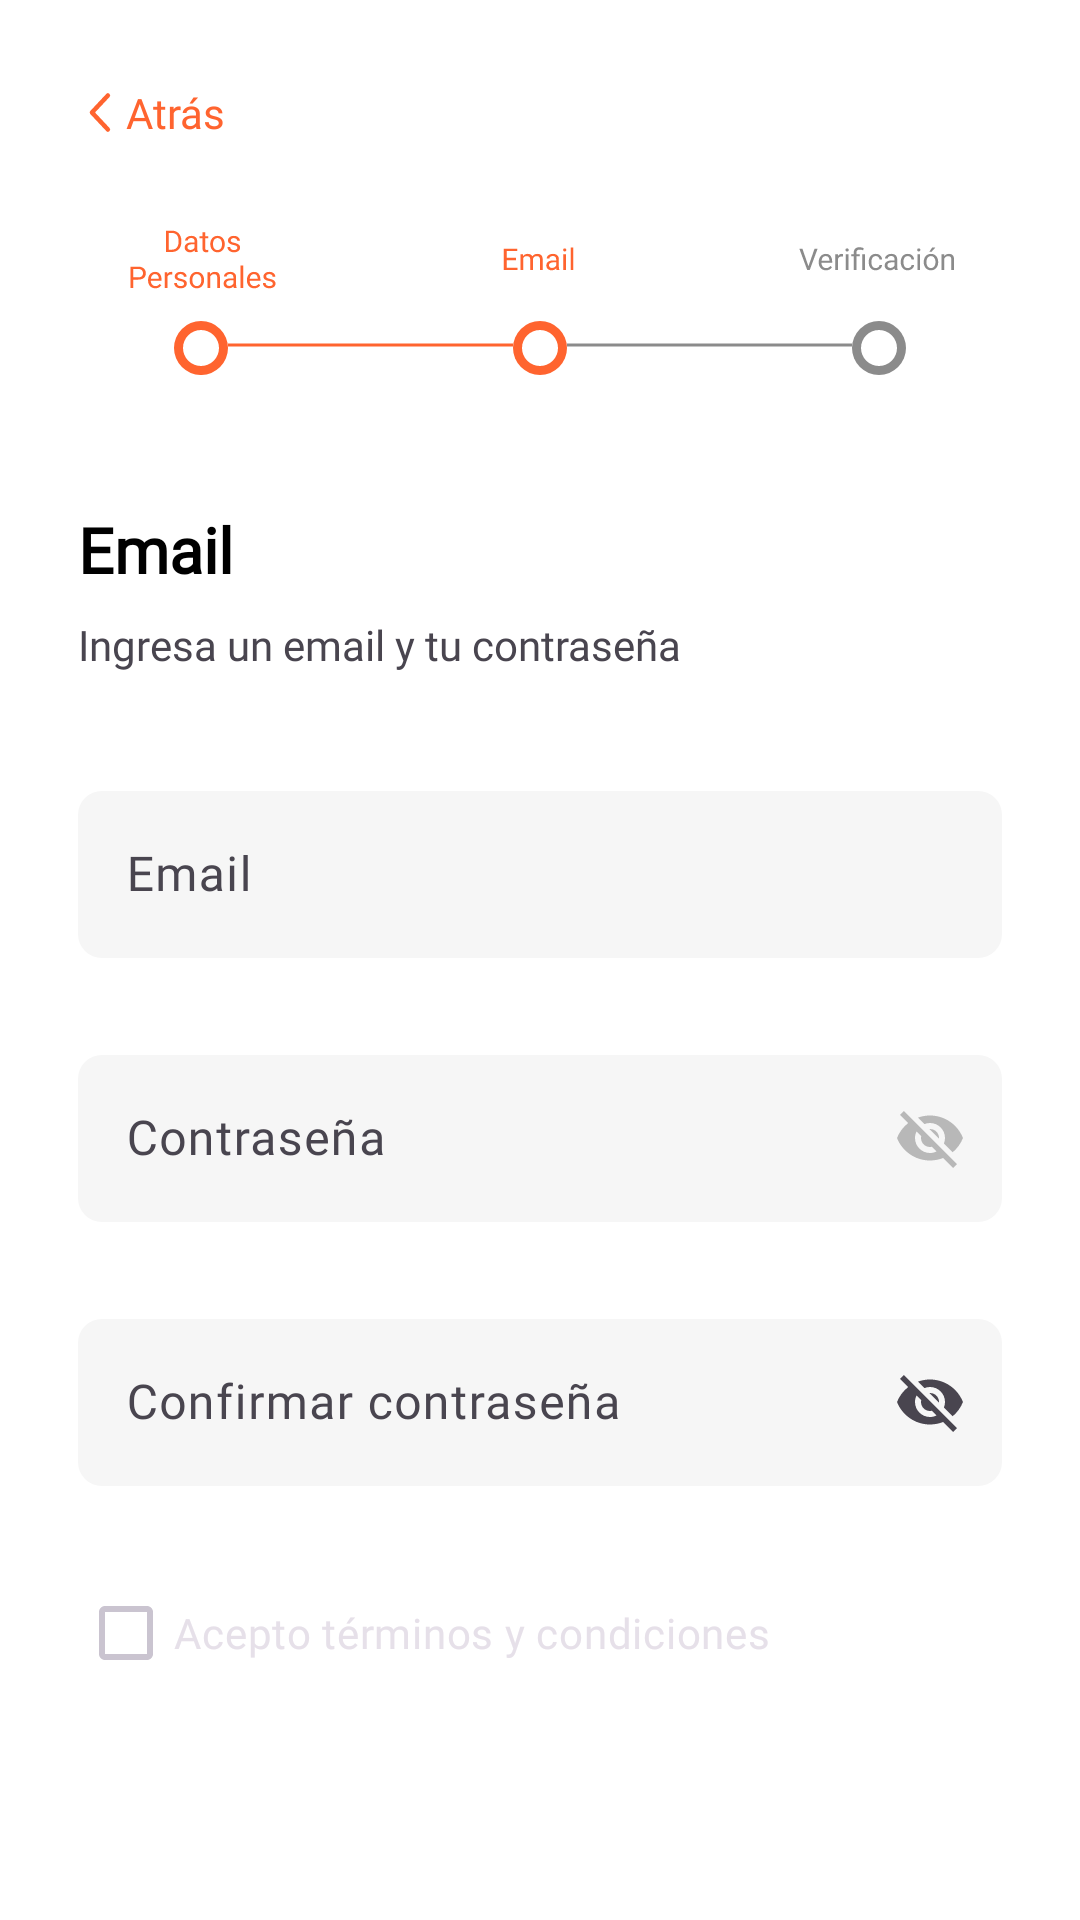

Icons on this 1080 x 1920 Android screen, each with the point to tap as point (x, y):
return: point (100, 112)
